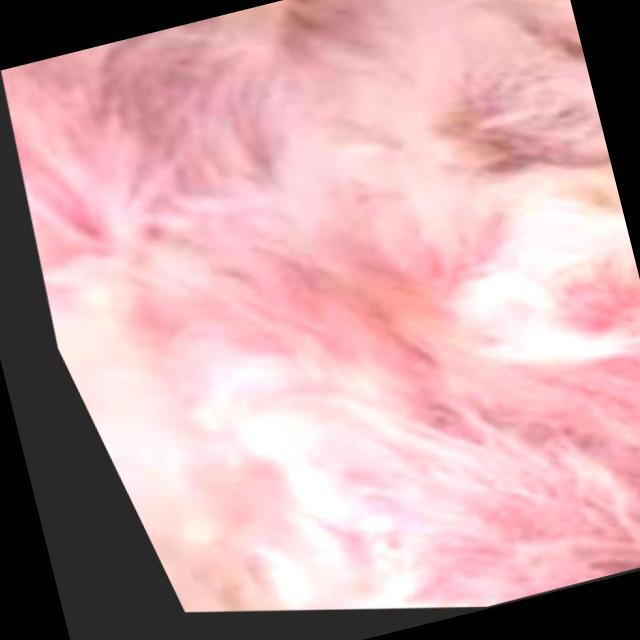fungal infection: (394, 366, 640, 592), (430, 7, 640, 161), (53, 43, 263, 185), (297, 217, 461, 352), (514, 259, 640, 328)
